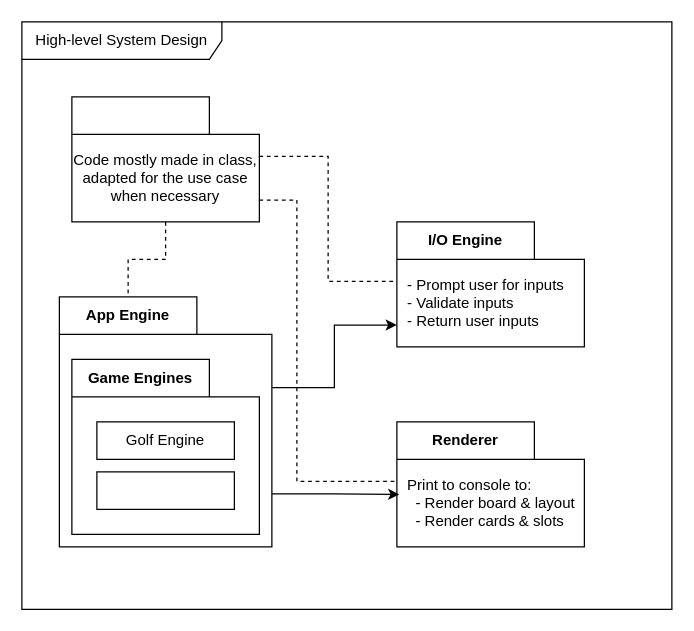
This 694x631 diagram has some shape labels left out. Each missing label, with the centre of its shape:
"Data Structures" goes at (165,159).
"Spider Engine" goes at (165,490).
